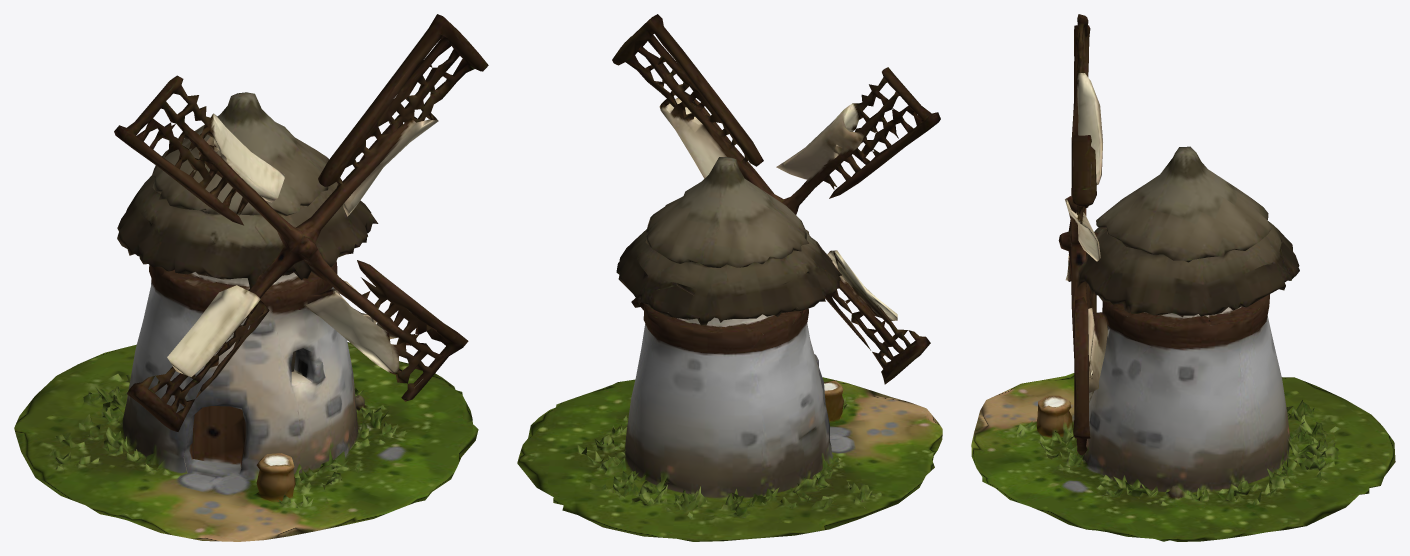
Rendered from mill.glb.
The picture shows the model from 3 angles, left to right: view 1: azimuth 30°, elevation 25°; view 2: azimuth 150°, elevation 25°; view 3: azimuth 270°, elevation 25°; orthographic projection. The views are drawn at different scales.
Parts seen in each view (by area): view 1: world; view 2: world; view 3: world.
Boxes of the visible parts, <box> form: world: <box>14,14,488,541</box>; world: <box>517,14,942,541</box>; world: <box>971,14,1395,541</box>.
Bounding box in the file's own units: 0.9653 × 0.9904 × 0.9737.
Materials: 1 (1 with a texture image).
